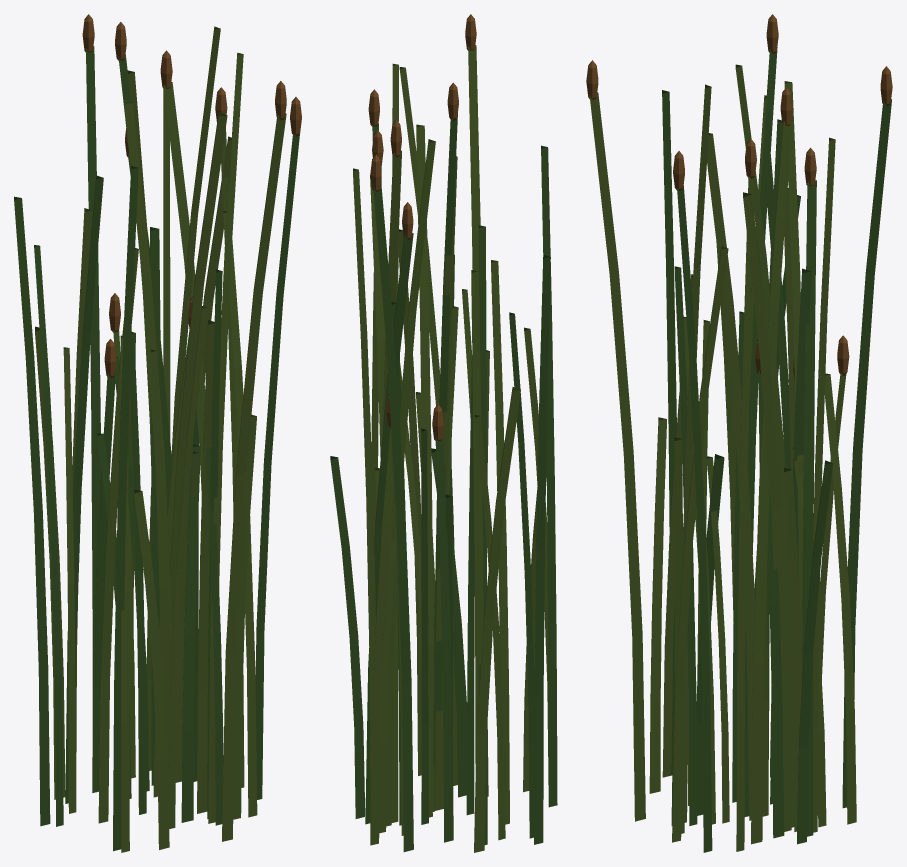
Rendered from wet_sedge_v1.glb.
3 renders of one model, left to right at view 1: azimuth 30°, elevation 25°; view 2: azimuth 150°, elevation 25°; view 3: azimuth 270°, elevation 25°, orthographic. The views are drawn at different scales.
Visible parts, largest first — view 1: wet_sedge_v1; view 2: wet_sedge_v1; view 3: wet_sedge_v1.
Boxes of the visible parts, x1,y1,x2,y2 form: wet_sedge_v1: (14,14,301,852); wet_sedge_v1: (330,14,557,852); wet_sedge_v1: (586,14,892,852).
Size of the model in its own units: 0.2222 by 0.6914 by 0.2439.
